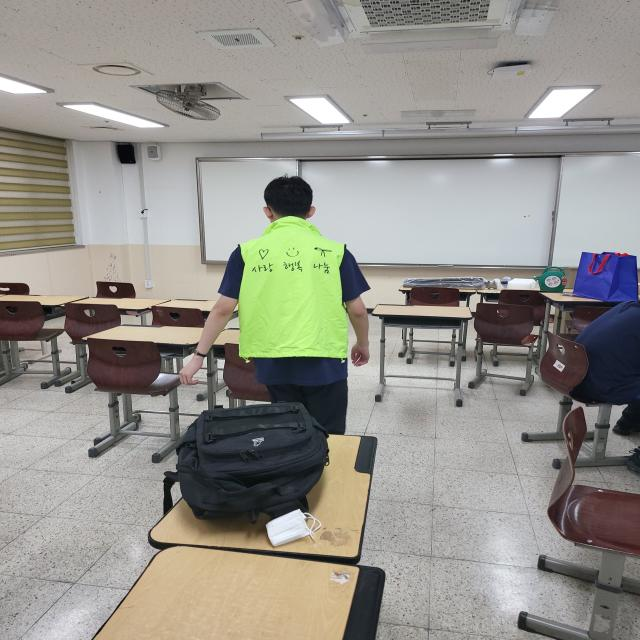weston_spy: (224, 223, 374, 374)
